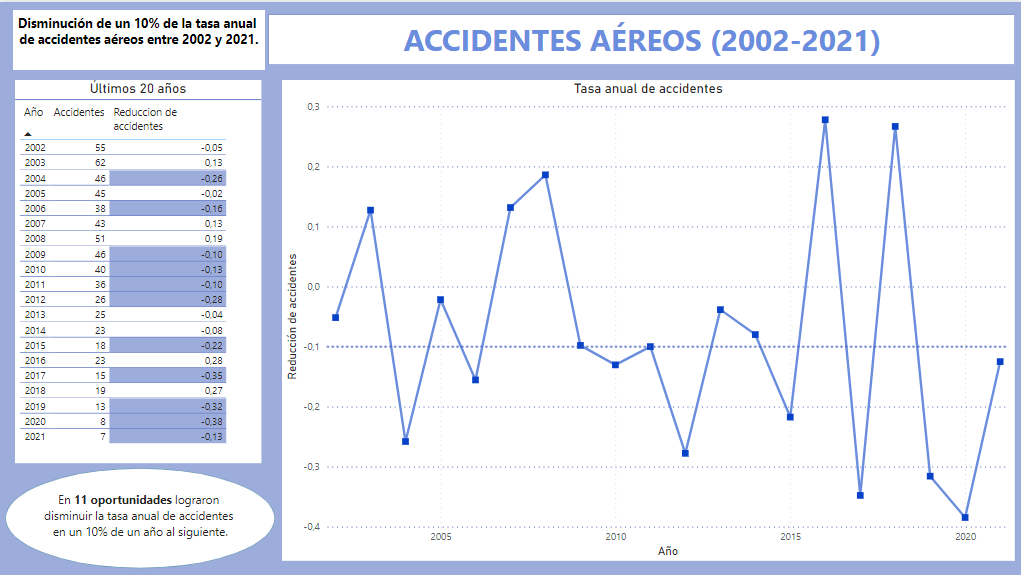

The page's visual inventory and layout, read from the dashboard file:
{"tool":"powerbi","page":{"name":"KPI 1","canvas":[1280,720],"ordinal":2},"visuals":[{"type":"textbox","box":[335.7,15.4,934.1,64.1],"z":0},{"type":"textbox","box":[16.9,9.5,314.6,75],"z":1000},{"type":"tableEx","title":"Últimos 20 años","fields":{"Values":["Calendar.Fecha.Variación.Jerarquía de fechas.Año","Accidentes_tratado.Accidentes","Accidentes_tratado.Reduccion_accidentes"]},"box":[20,97.5,307.5,478.8],"z":2000},{"type":"lineChart","title":"Tasa anual de accidentes","fields":{"Category":["Calendar.Fecha.Variación.Jerarquía de fechas.Año"],"Y":["Accidentes_tratado.Reduccion_accidentes"]},"box":[354.3,97.1,915.7,601.4],"z":3000},{"type":"shape","box":[7.4,582.8,337.8,125.6],"z":5000,"group":"g2"},{"type":"textbox","box":[48.2,606.3,255.5,72.8],"z":5500,"group":"g2"},{"type":"group","id":"g1","title":"Grupo 1","box":[7.4,582.8,337.8,125.6],"z":5501},{"type":"group","id":"g2","title":"Grupo 2","box":[7.4,582.8,337.8,125.6],"z":5502,"group":"g1"}]}

Visuals, with their boxes in screenshot pixels (x1, y1, x2, y2), scaled from the page's 1280x720 canvas onto the 1021x575 screenshot:
textbox: [x1=268, y1=12, x2=1013, y2=63]
textbox: [x1=13, y1=8, x2=264, y2=67]
"Últimos 20 años" tableEx: [x1=16, y1=78, x2=261, y2=460]
"Tasa anual de accidentes" lineChart: [x1=283, y1=78, x2=1013, y2=558]
shape: [x1=6, y1=465, x2=275, y2=566]
textbox: [x1=38, y1=484, x2=242, y2=542]
"Grupo 1" group: [x1=6, y1=465, x2=275, y2=566]
"Grupo 2" group: [x1=6, y1=465, x2=275, y2=566]
